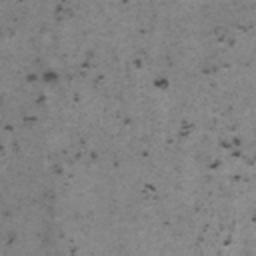Oxide scale of temperature system: (0, 58, 256, 247), (201, 24, 247, 76), (52, 4, 64, 22), (6, 233, 17, 247), (67, 246, 79, 256), (122, 0, 129, 5)
